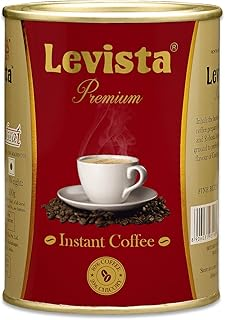Coffee: (1, 1, 225, 320)
